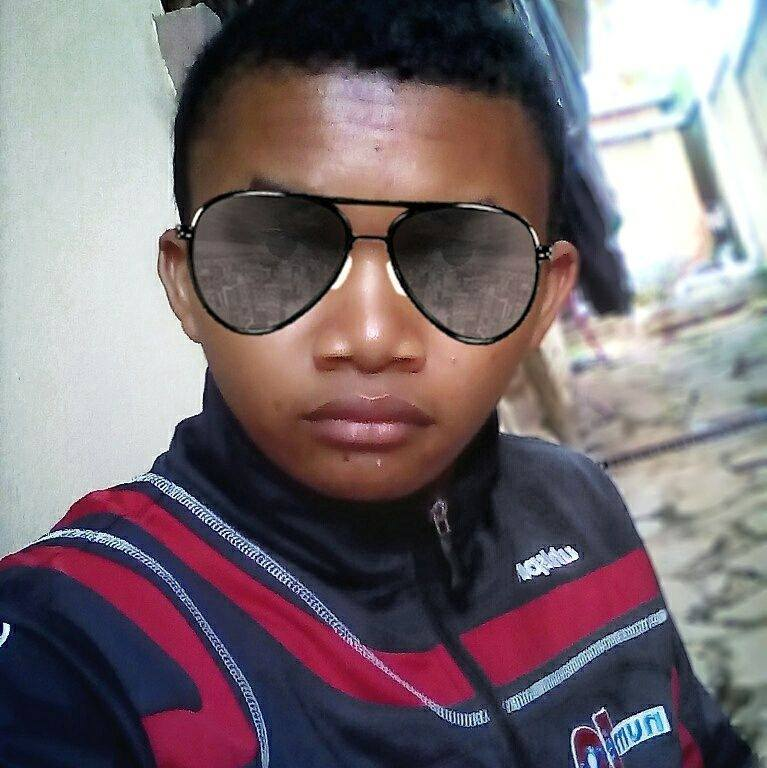BOY: (140, 2, 592, 498)
